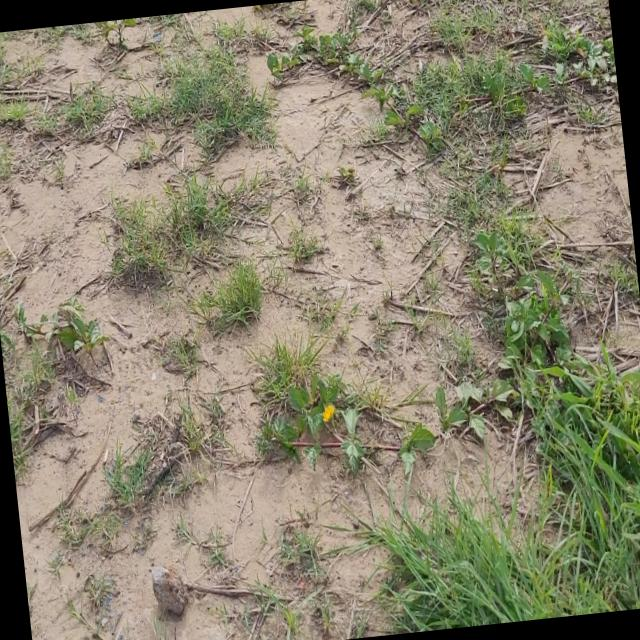grass: (0, 0, 640, 633), (103, 324, 234, 516), (5, 294, 110, 477)
red-sand: (0, 0, 536, 640), (500, 98, 634, 254), (5, 22, 179, 109), (297, 547, 393, 640), (352, 0, 449, 82), (568, 297, 640, 369)
stone: (85, 229, 89, 234)
